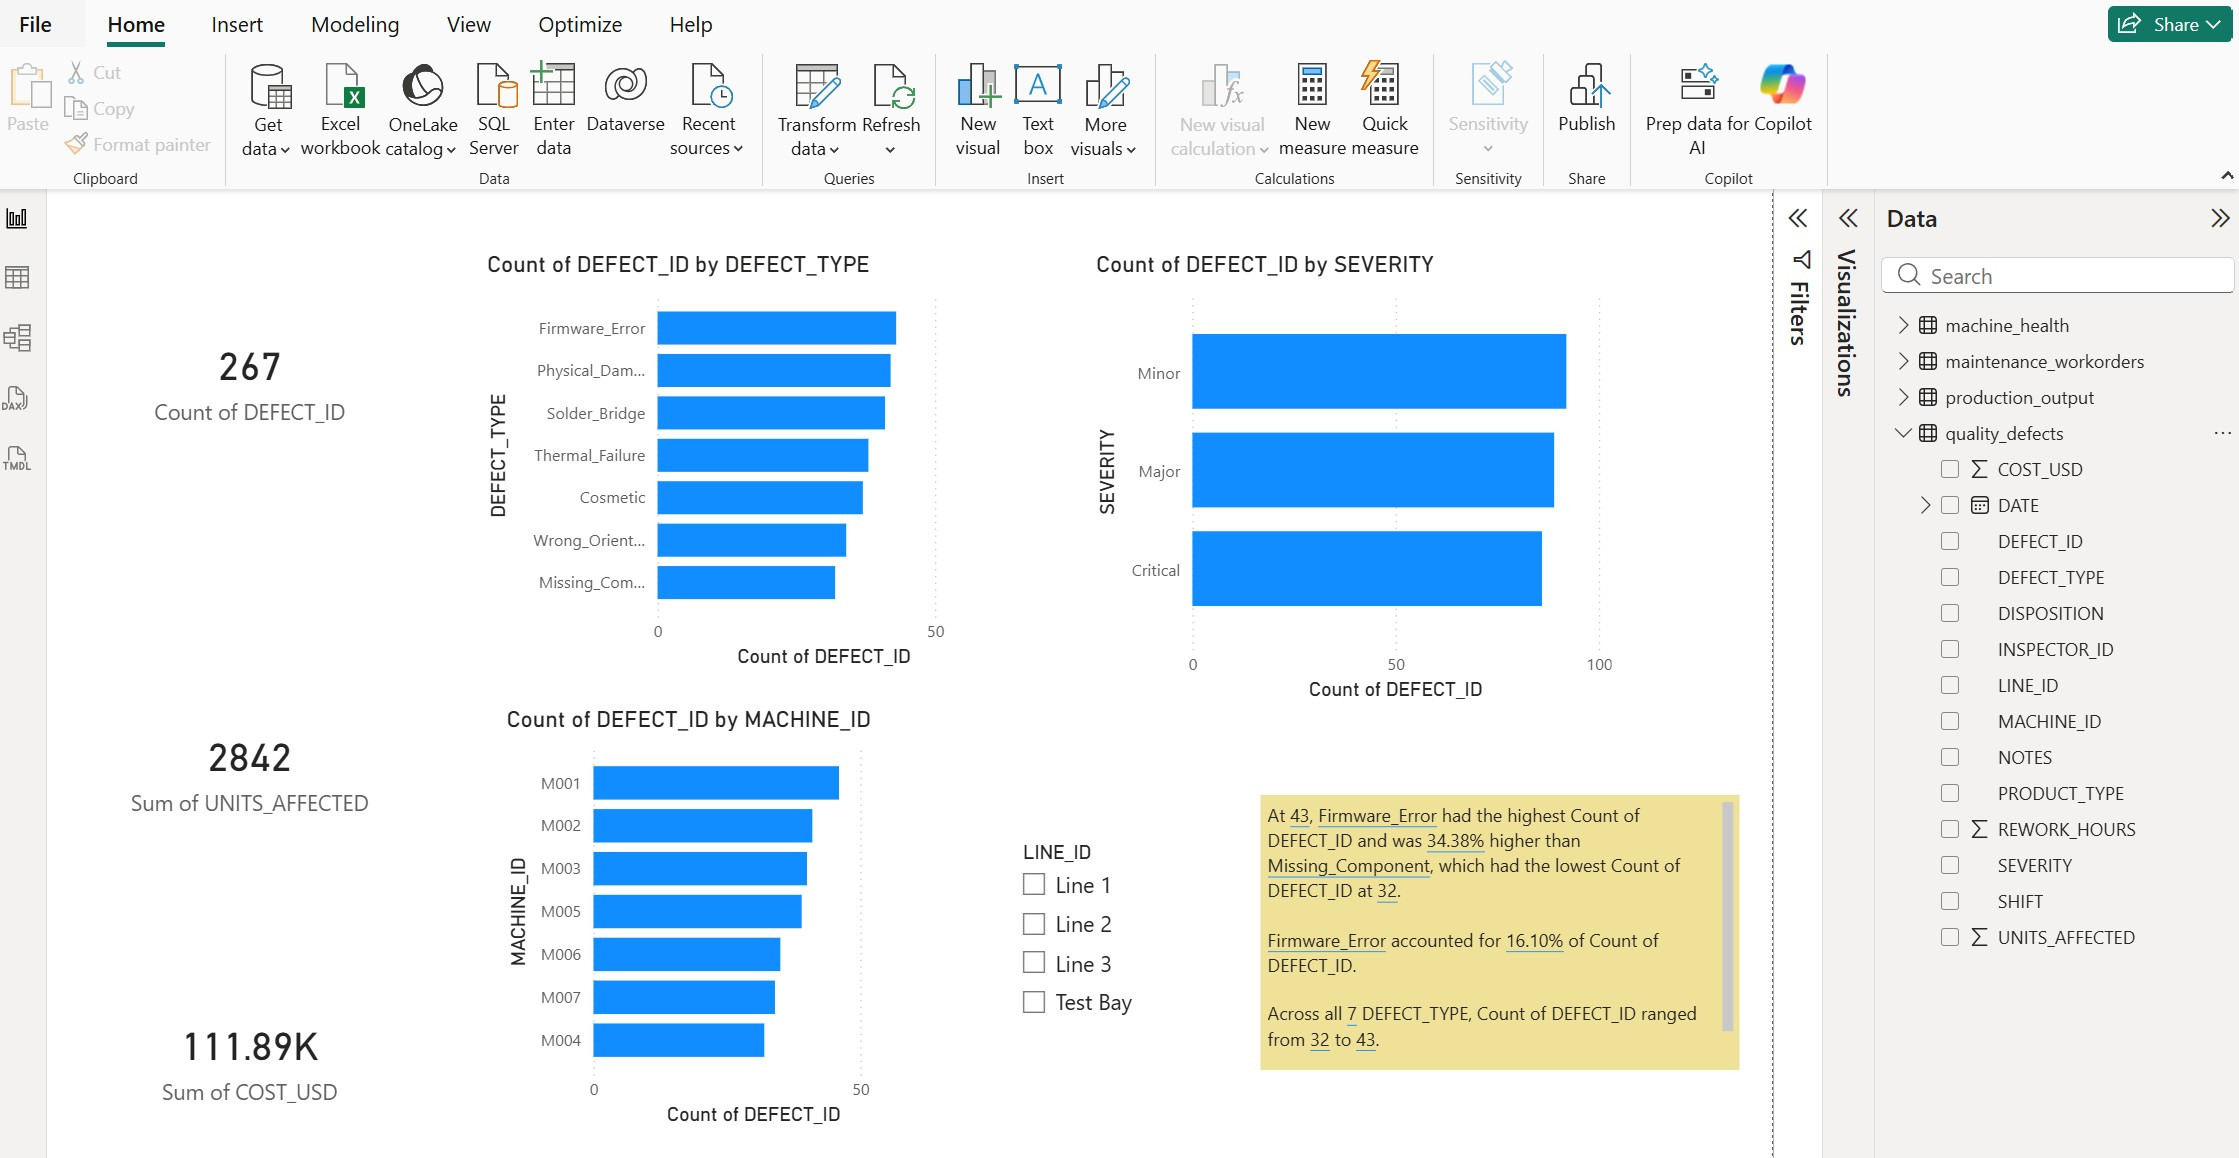

This screenshot's page, from the dashboard's own definition file:
{"tool":"powerbi","page":{"name":"Quality Defects","canvas":[1280,720],"ordinal":3},"visuals":[{"type":"card","fields":{"Values":["Count(quality_defects.DEFECT_ID)"]},"box":[10,0,280,280],"z":0},{"type":"card","fields":{"Values":["Sum(quality_defects.UNITS_AFFECTED)"]},"box":[10,290,280,280],"z":1},{"type":"card","fields":{"Values":["Sum(quality_defects.COST_USD)"]},"box":[10,570,280,150],"z":2},{"type":"clusteredBarChart","fields":{"Category":["quality_defects.DEFECT_TYPE"],"Y":["CountNonNull(quality_defects.DEFECT_ID)"]},"box":[321.2,45.9,347.9,289.3],"z":3},{"type":"clusteredBarChart","fields":{"Category":["quality_defects.MACHINE_ID"],"Y":["CountNonNull(quality_defects.DEFECT_ID)"]},"box":[336.5,382.3,318.6,316.1],"z":4},{"type":"clusteredBarChart","fields":{"Category":["quality_defects.SEVERITY"],"Y":["CountNonNull(quality_defects.DEFECT_ID)"]},"box":[749.4,21.7,347.9,288],"z":5},{"type":"slicer","fields":{"Values":["quality_defects.LINE_ID"]},"box":[711.2,441,123.6,145.3],"z":6},{"type":"textbox","box":[906.2,382.3,351.8,262.5],"z":7}]}

Visuals, with their boxes on the page's 1280x720 design canvas (x1, y1, x2, y2). These are canvas units, not pixel positions in the 2239x1158 screenshot, which may show the page scaled, cropped or inside an application window:
card - Count(quality_defects.DEFECT_ID): detection(10, 0, 290, 280)
card - Sum(quality_defects.UNITS_AFFECTED): detection(10, 290, 290, 570)
card - Sum(quality_defects.COST_USD): detection(10, 570, 290, 720)
clusteredBarChart - quality_defects.DEFECT_TYPE x CountNonNull(quality_defects.DEFECT_ID): detection(321, 46, 669, 335)
clusteredBarChart - quality_defects.MACHINE_ID x CountNonNull(quality_defects.DEFECT_ID): detection(336, 382, 655, 698)
clusteredBarChart - quality_defects.SEVERITY x CountNonNull(quality_defects.DEFECT_ID): detection(749, 22, 1097, 310)
slicer - quality_defects.LINE_ID: detection(711, 441, 835, 586)
textbox: detection(906, 382, 1258, 645)
